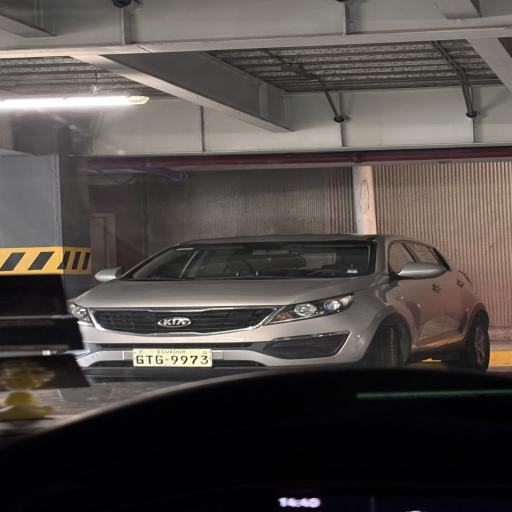license_plate: (133, 349, 212, 367)
